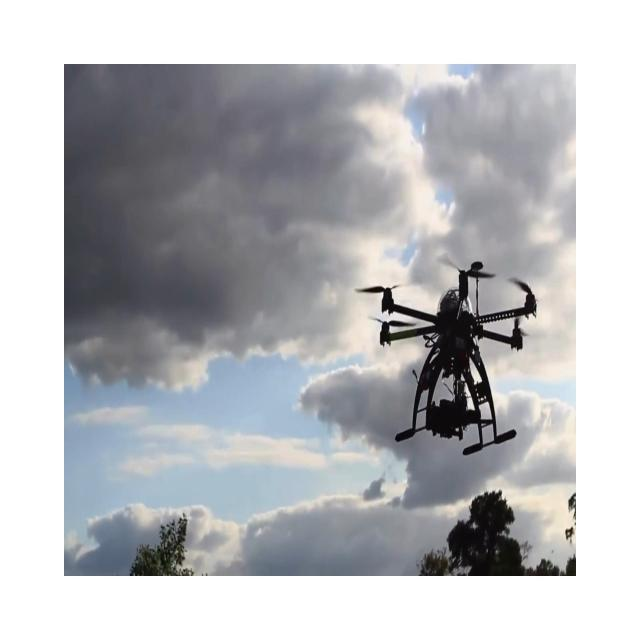drone: (354, 254, 537, 456)
